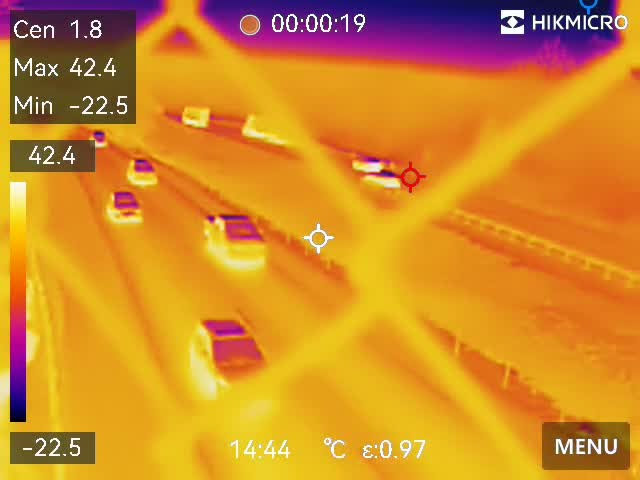heavyTruck: (238, 107, 311, 147), (178, 104, 215, 128)
largeCar: (196, 311, 272, 395)
lightTruck: (203, 203, 263, 274)
smallCar: (109, 186, 140, 224)
vehicle: (360, 163, 403, 192), (126, 154, 159, 188), (352, 154, 385, 172), (91, 129, 109, 148)
